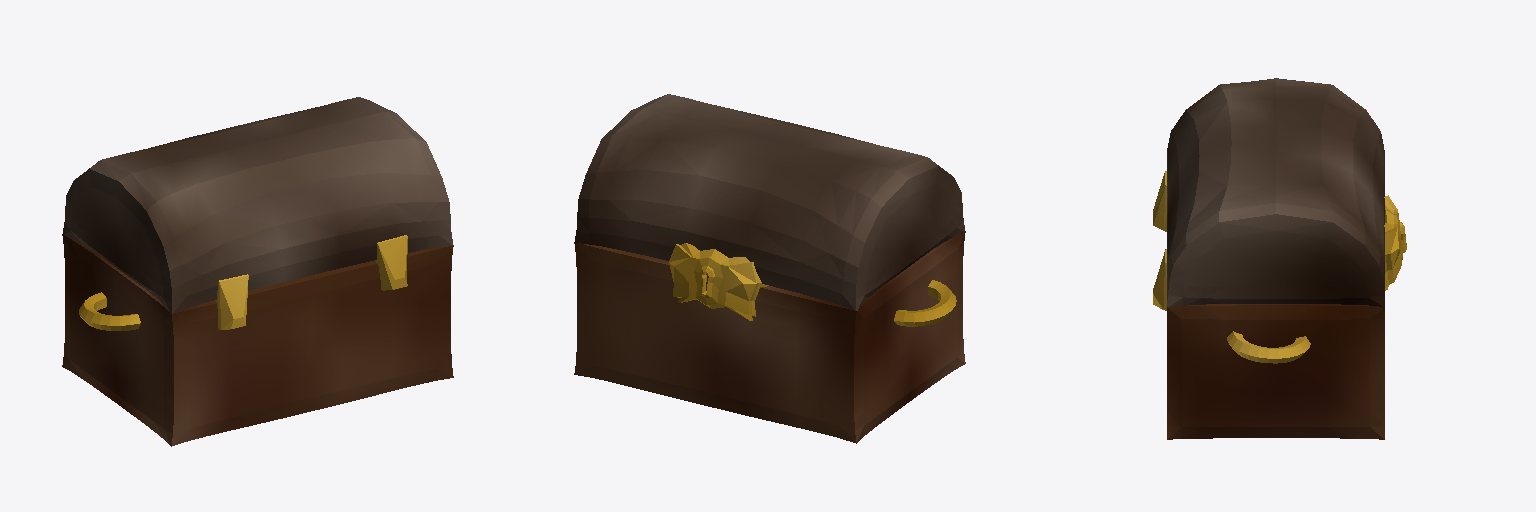
The picture shows the model from 3 angles: view 1: azimuth 30°, elevation 25°; view 2: azimuth 150°, elevation 25°; view 3: azimuth 270°, elevation 25°; orthographic projection.
Parts seen in each view (by area): view 1: Group30721, Group30706, Group30751, Group30781, Group30766; view 2: Group30721, Group30706, Group30736, Group30766; view 3: Group30721, Group30706, Group30736, Group30796, Group30751, Group30781.
Boxes of the visible parts, x1,y1,x2,y2 form: Group30721: [62, 97, 452, 313]; Group30706: [62, 234, 453, 446]; Group30751: [215, 274, 248, 329]; Group30781: [376, 235, 407, 290]; Group30766: [79, 292, 140, 330]; Group30721: [575, 94, 965, 310]; Group30706: [574, 231, 965, 443]; Group30736: [669, 243, 768, 320]; Group30766: [894, 280, 956, 326]; Group30721: [1167, 78, 1384, 307]; Group30706: [1167, 304, 1384, 439]; Group30736: [1384, 195, 1406, 290]; Group30796: [1227, 331, 1310, 363]; Group30751: [1153, 171, 1166, 231]; Group30781: [1153, 249, 1166, 310].
Bounding box in the file's own units: 6.83 × 4.23 × 4.23.
Materials: 1 (1 with a texture image).